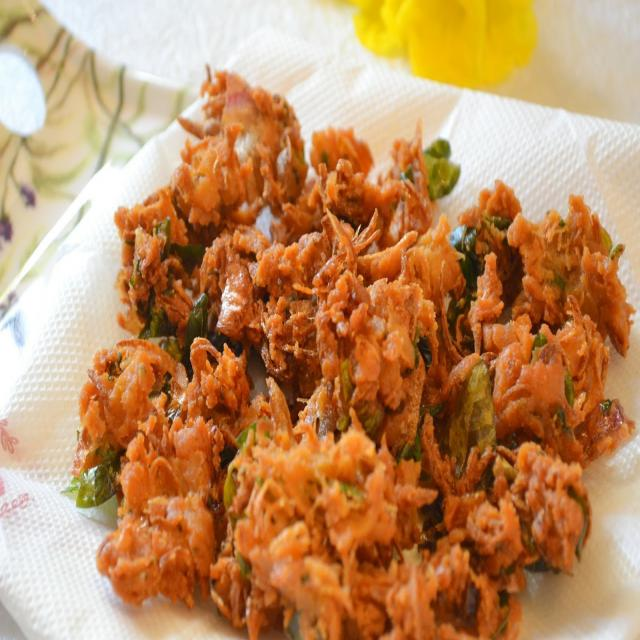Onion Pakora: (75, 66, 639, 640)
